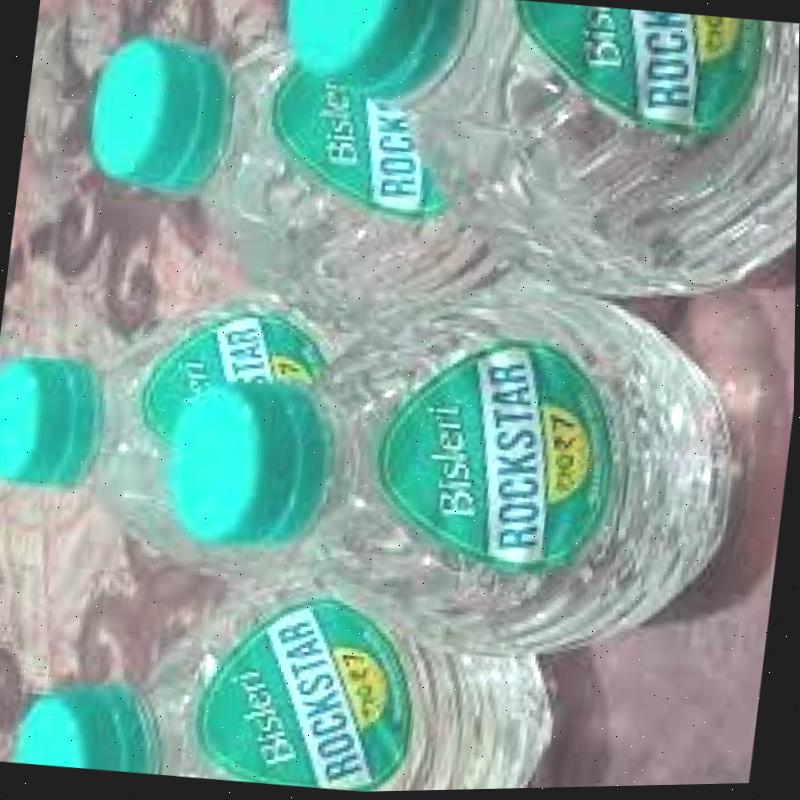botella: (143, 254, 758, 685), (253, 0, 800, 327), (72, 11, 588, 338), (16, 552, 570, 800), (0, 262, 352, 597)
